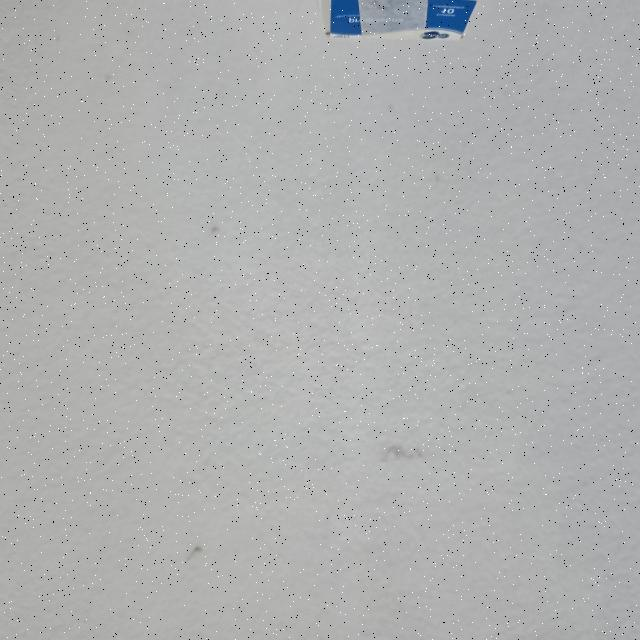prednisona: (309, 0, 483, 45)
